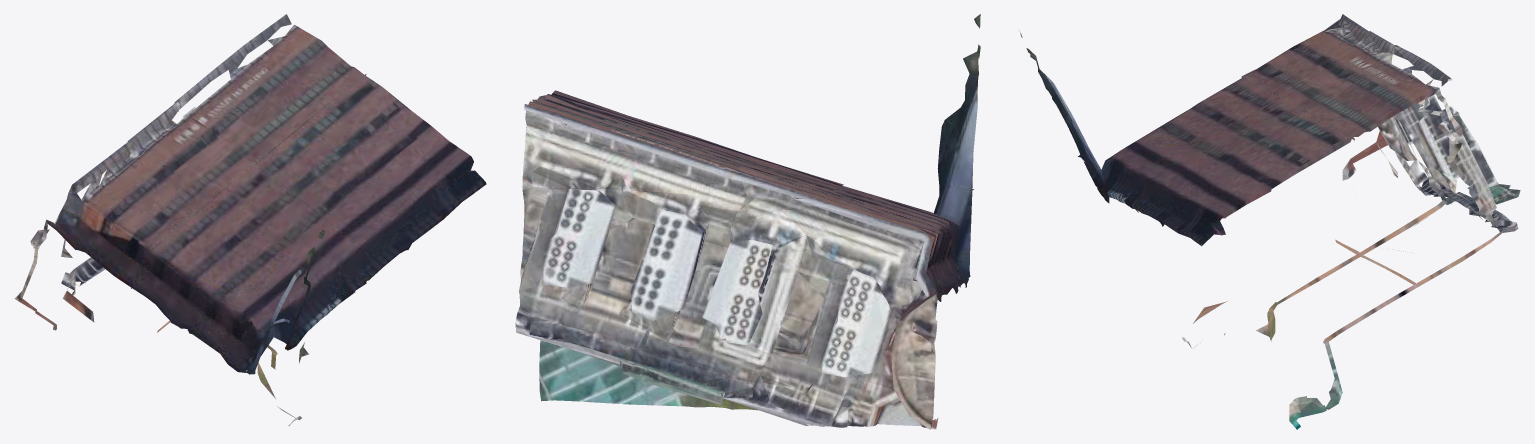
The model's file is AJVsH2yZur-bCeHPc-h8vOZms8ym3bxJ22oAk4fRhZrVe6_oUYz7d_7Rj5I3LAVoSdgK0UEJGs76Df4lnte7wgiMypZdi_JwlEJOZSaep9VpNyr2GeDsMWBwfvJeZzArIYyAuFeqgnvLbNJtKVcOz85Yq88O.glb.
The picture shows the model from 3 angles, left to right: view 1: azimuth 30°, elevation 25°; view 2: azimuth 150°, elevation 25°; view 3: azimuth 270°, elevation 25°; orthographic projection. The views are drawn at different scales.
Size of the model in its own units: 47.71 by 35.54 by 49.45.
Materials: 1 (1 with a texture image).
